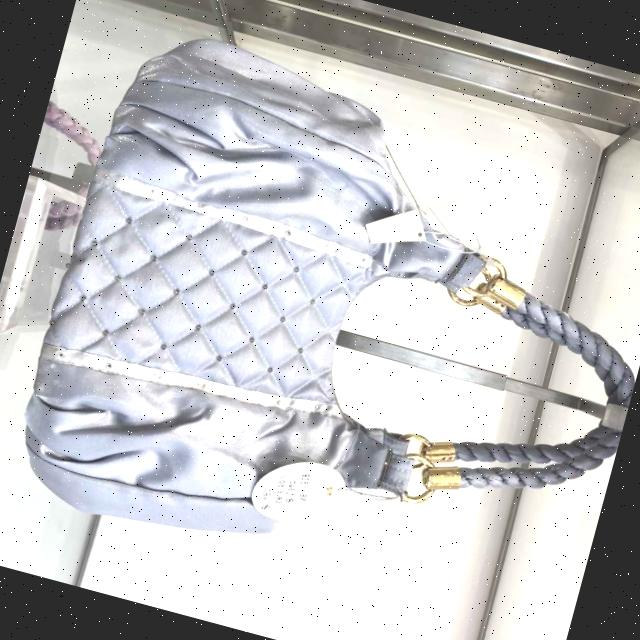Handbag: (0, 31, 529, 606)
